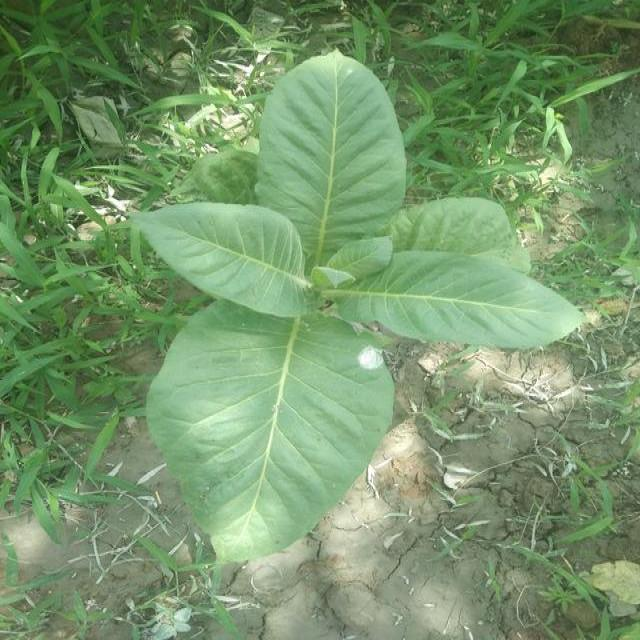crop: (118, 53, 577, 563)
